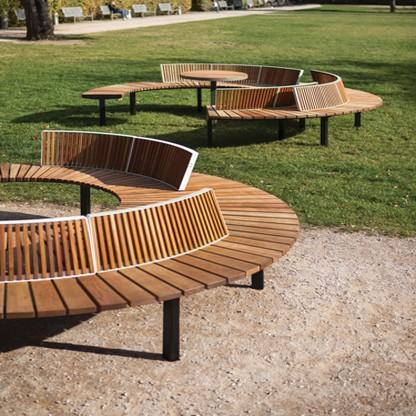obstacle: (97, 41, 398, 158)
